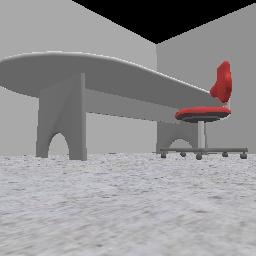masa: (0, 52, 220, 159)
